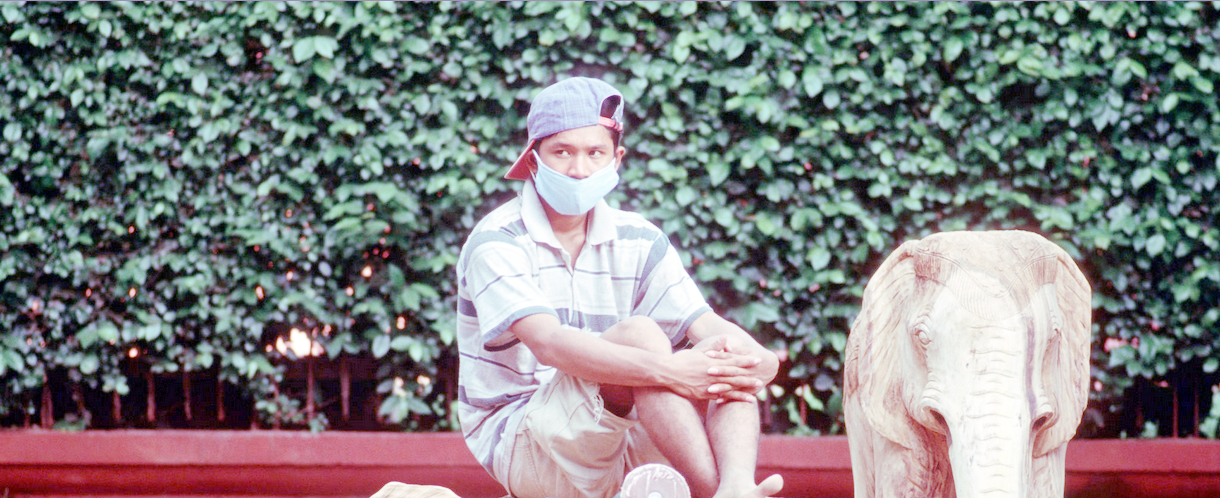mask_weared_incorrect: (511, 75, 630, 227)
